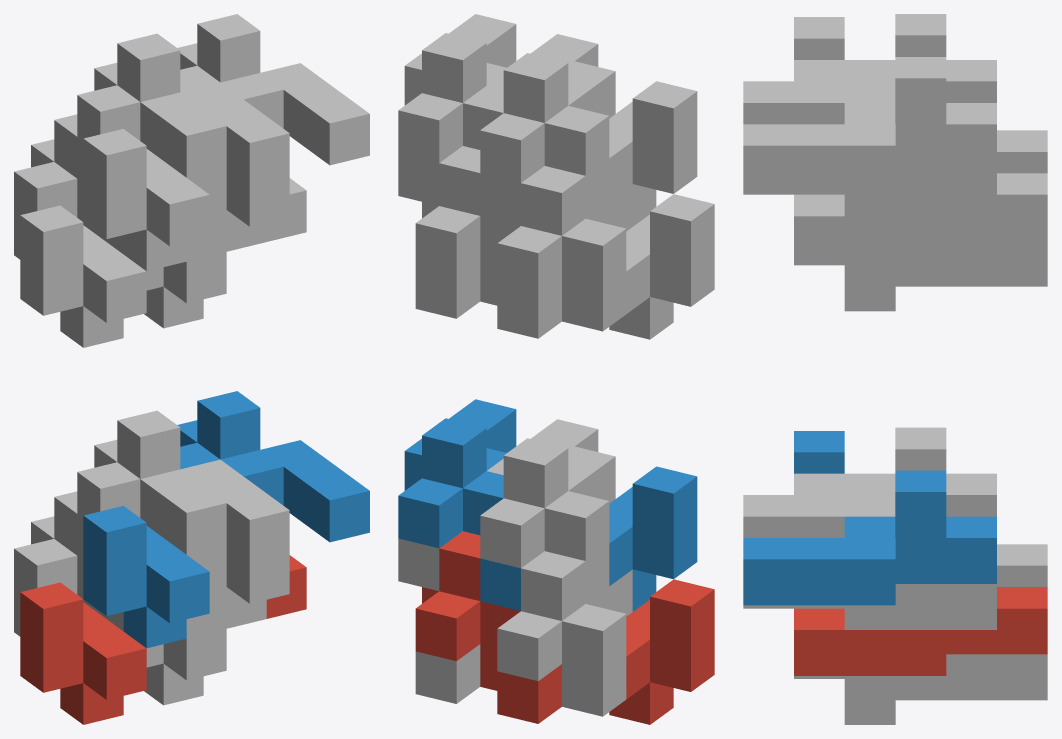
The model's file is tiling.obj.
The picture shows the model from 3 angles, left to right: view 1: azimuth 30°, elevation 25°; view 2: azimuth 150°, elevation 25°; view 3: azimuth 270°, elevation 25°; orthographic projection. The views are drawn at different scales.
Visible parts, largest first — view 1: copy_2_domain_2, copy_2_domain_4, copy_2_domain_6, copy_2_domain_8, copy_1_domain_2, copy_1_domain_4, copy_1_domain_1, copy_1_domain_3, copy_1_domain_6, copy_1_domain_8, copy_2_domain_1, copy_2_domain_3 (+4 smaller); view 2: copy_2_domain_2, copy_2_domain_4, copy_2_domain_1, copy_2_domain_3, copy_1_domain_3, copy_1_domain_1, copy_2_domain_6, copy_2_domain_8, copy_1_domain_2, copy_1_domain_4, copy_2_domain_5, copy_2_domain_7 (+4 smaller); view 3: copy_2_domain_6, copy_2_domain_8, copy_2_domain_7, copy_2_domain_5, copy_2_domain_2, copy_2_domain_4, copy_1_domain_7, copy_1_domain_5, copy_1_domain_8, copy_1_domain_6, copy_2_domain_3, copy_1_domain_2 (+2 smaller).
Part boxes in pixels (<box>): copy_2_domain_2: <box>77,410,289,561</box>; copy_2_domain_4: <box>77,33,289,184</box>; copy_2_domain_6: <box>177,391,369,542</box>; copy_2_domain_8: <box>177,14,369,165</box>; copy_1_domain_2: <box>83,506,209,648</box>; copy_1_domain_4: <box>83,129,209,271</box>; copy_1_domain_1: <box>20,582,146,724</box>; copy_1_domain_3: <box>20,205,146,347</box>; copy_1_domain_6: <box>163,486,289,628</box>; copy_1_domain_8: <box>163,109,289,251</box>; copy_2_domain_1: <box>14,491,226,638</box>; copy_2_domain_3: <box>14,114,226,261</box>; copy_2_domain_2: <box>480,419,609,603</box>; copy_2_domain_4: <box>480,34,609,217</box>; copy_2_domain_1: <box>497,551,626,716</box>; copy_2_domain_3: <box>497,166,626,331</box>; copy_1_domain_3: <box>497,194,714,339</box>; copy_1_domain_1: <box>497,579,714,724</box>; copy_2_domain_6: <box>398,399,516,548</box>; copy_2_domain_8: <box>398,14,516,162</box>; copy_1_domain_2: <box>480,466,697,611</box>; copy_1_domain_4: <box>480,81,697,226</box>; copy_2_domain_5: <box>415,531,520,690</box>; copy_2_domain_7: <box>415,146,520,305</box>; copy_2_domain_6: <box>743,470,996,605</box>; copy_2_domain_8: <box>743,57,996,191</box>; copy_2_domain_7: <box>794,173,1047,262</box>; copy_2_domain_5: <box>794,587,1047,675</box>; copy_2_domain_2: <box>743,427,996,537</box>; copy_2_domain_4: <box>743,14,996,124</box>; copy_1_domain_7: <box>794,240,1047,311</box>; copy_1_domain_5: <box>794,654,1047,724</box>; copy_1_domain_8: <box>743,60,996,216</box>; copy_1_domain_6: <box>743,473,996,629</box>; copy_2_domain_3: <box>997,130,1047,173</box>; copy_1_domain_2: <box>794,431,844,473</box>.
Size of the model in its own units: 7 by 15 by 6.
